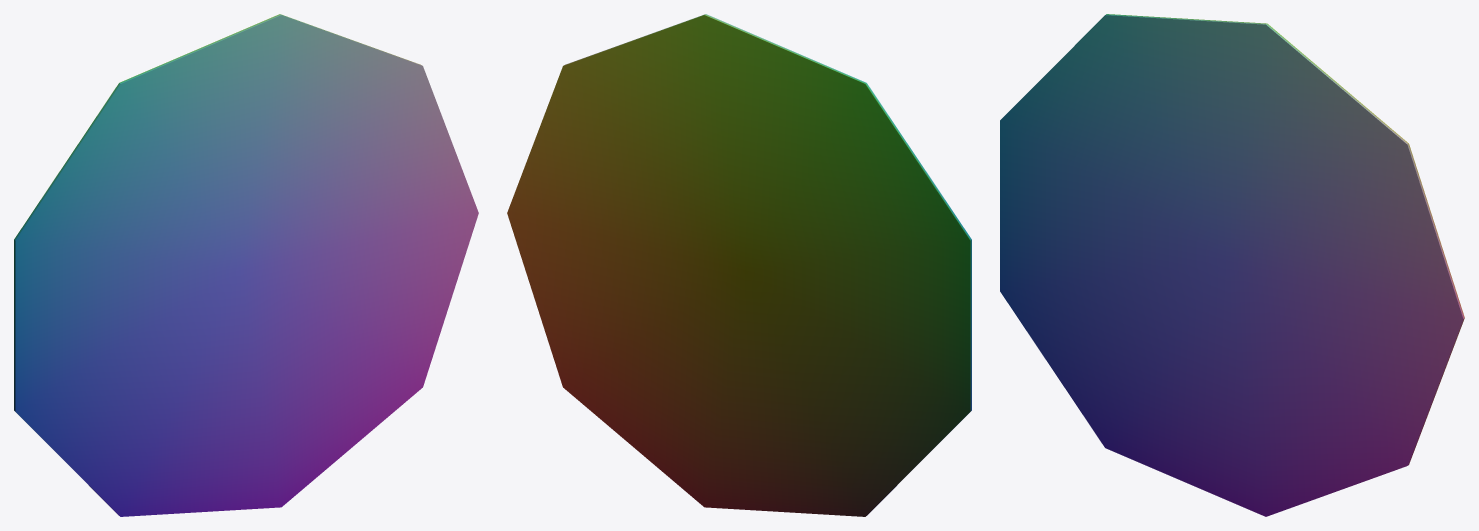
File: zeometry-flat-shapes-flat-oval_v4.glb
The picture shows the model from 3 angles, left to right: view 1: azimuth 30°, elevation 25°; view 2: azimuth 150°, elevation 25°; view 3: azimuth 330°, elevation 25°; orthographic projection.
Parts seen in each view (by area): view 1: Flat Oval_v4; view 2: Flat Oval_v4; view 3: Flat Oval_v4.
Part boxes in pixels (left/top/right/bottom): Flat Oval_v4: left=14, top=14, right=478, bottom=516; Flat Oval_v4: left=507, top=14, right=971, bottom=516; Flat Oval_v4: left=1000, top=14, right=1464, bottom=516.
Bounding box in the file's own units: 0.4924 × 0.5 × 0.00284.
